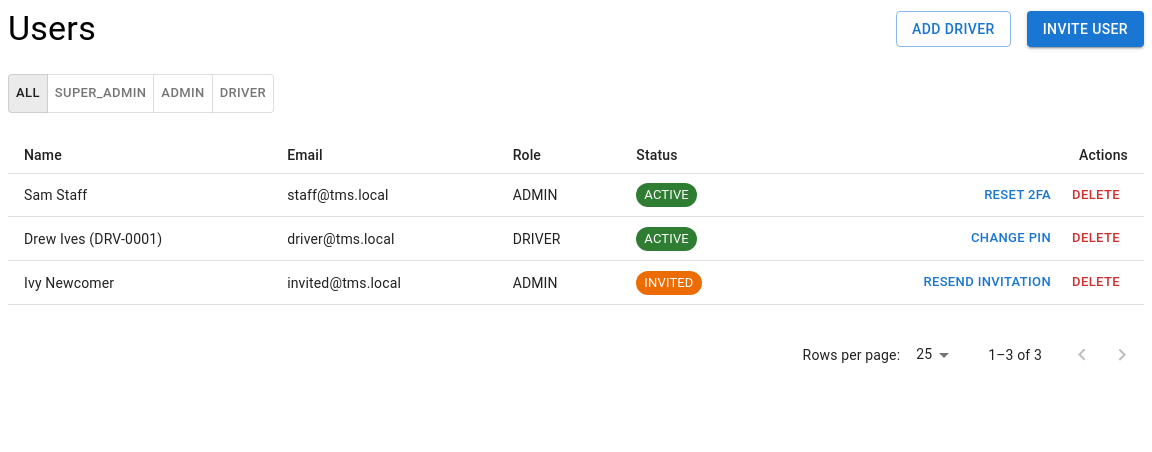
Scenario: UsersPage › resends the invitation through the API and confirms it
Click the button "Resend invitation": click(987, 283) [918,267,1056,298]
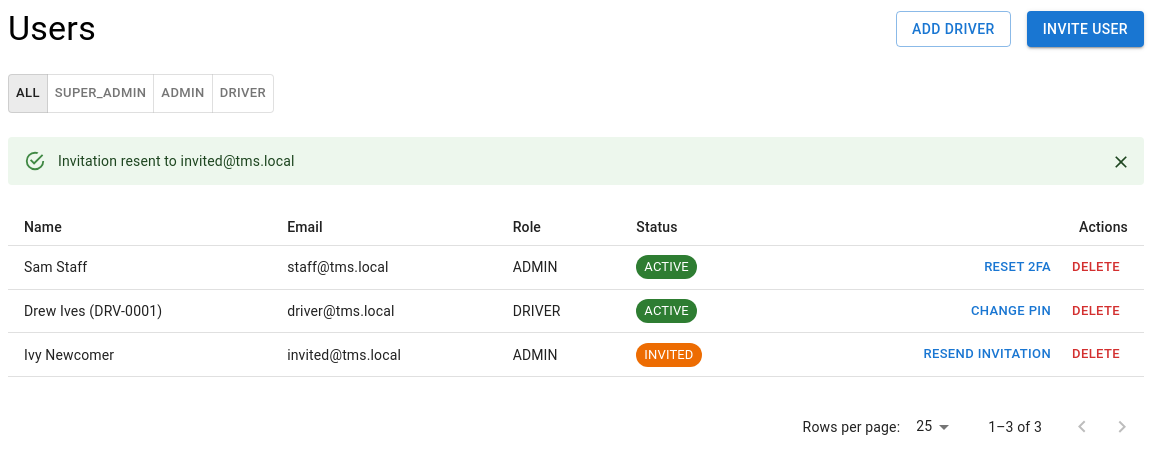
Result: the message shows "invited@tms.local" at [58,153,294,169]
